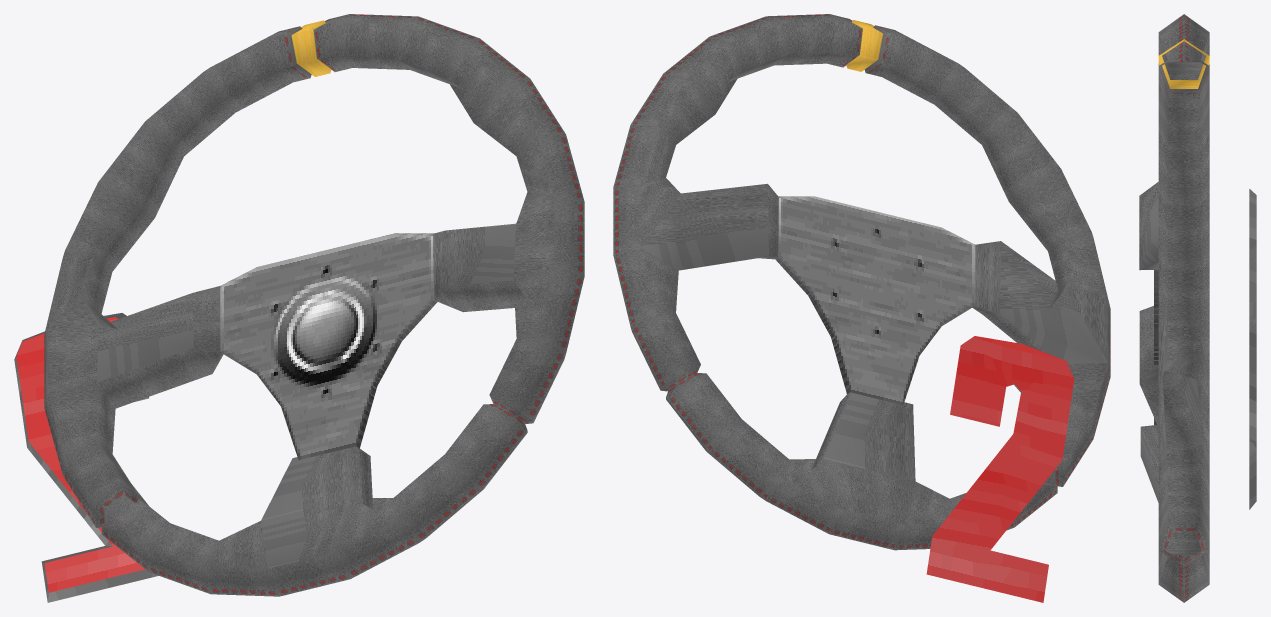
File: ps2_save-icons_tocaracedriver2.glb
The picture shows the model from 3 angles, left to right: view 1: azimuth 30°, elevation 25°; view 2: azimuth 150°, elevation 25°; view 3: azimuth 270°, elevation 25°; orthographic projection. The views are drawn at different scales.
Visible parts, largest first — view 1: Icon.ICN; view 2: Icon.ICN; view 3: Icon.ICN.
Part boxes in pixels (x1,y1,x2,y2): Icon.ICN: (14,14,584,602); Icon.ICN: (613,14,1110,602); Icon.ICN: (1139,14,1256,602).
Size of the model in its own units: 3.35 by 3.35 by 0.6721.
1 material, 1 textured.
